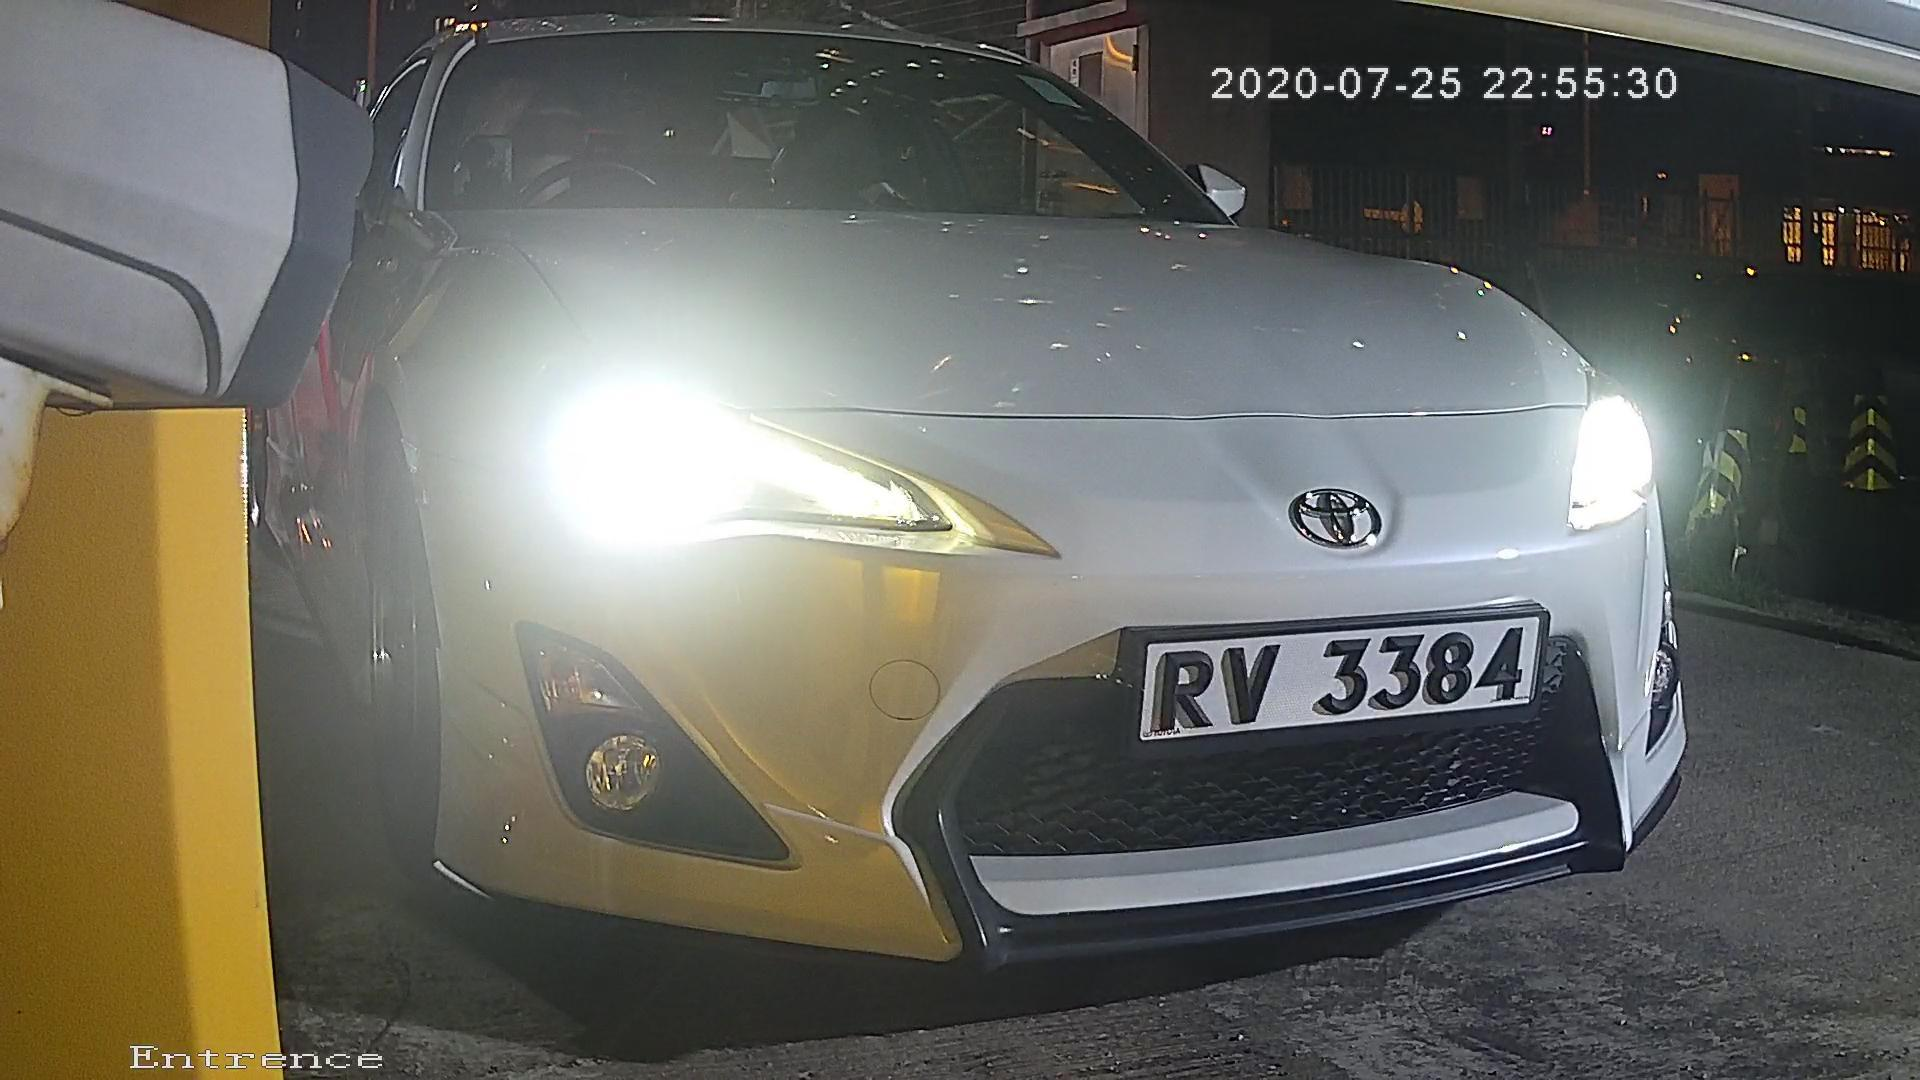privatecar: (343, 25, 1724, 1013)
